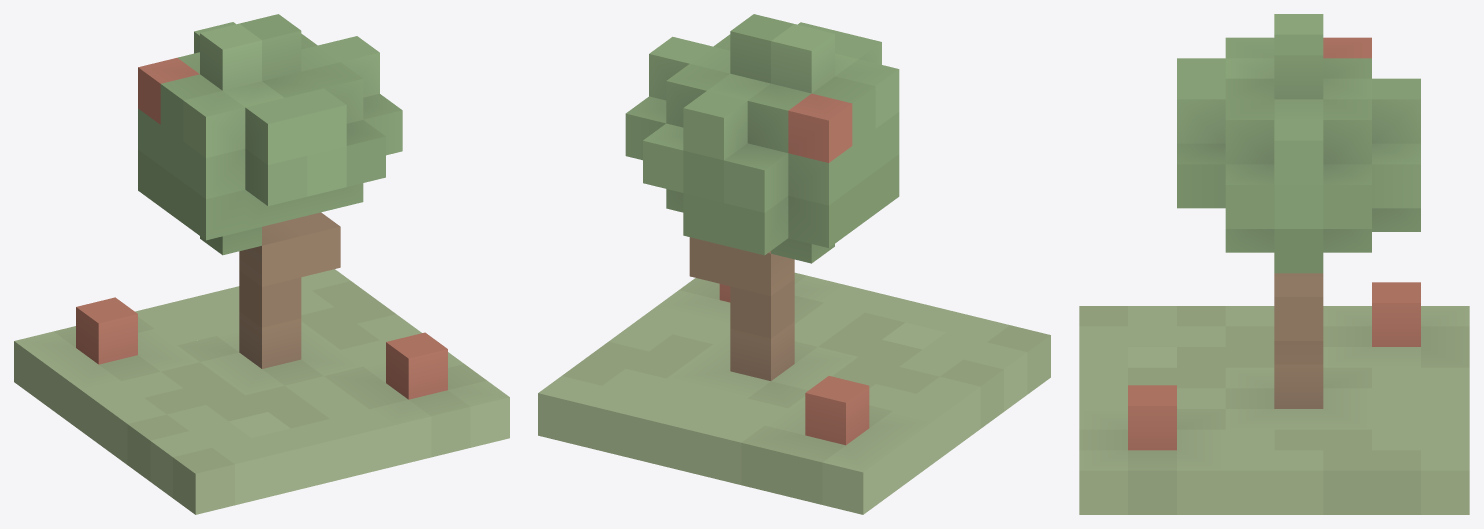
The model's file is orchard_plot.glb.
The picture shows the model from 3 angles, left to right: view 1: azimuth 30°, elevation 25°; view 2: azimuth 150°, elevation 25°; view 3: azimuth 270°, elevation 25°; orthographic projection. The views are drawn at different scales.
Parts seen in each view (by area): view 1: orchard_plot; view 2: orchard_plot; view 3: orchard_plot.
Part boxes in pixels (<box>): orchard_plot: <box>14,14,509,514</box>; orchard_plot: <box>538,14,1050,514</box>; orchard_plot: <box>1079,14,1469,514</box>.
Bounding box in the file's own units: 1 × 1.12 × 1.
